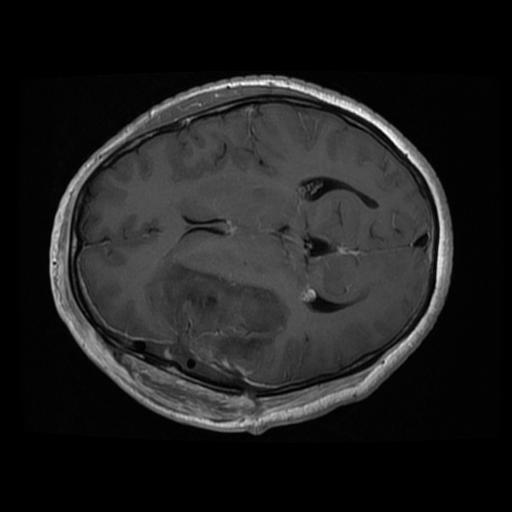glioma: (145, 258, 290, 384)
